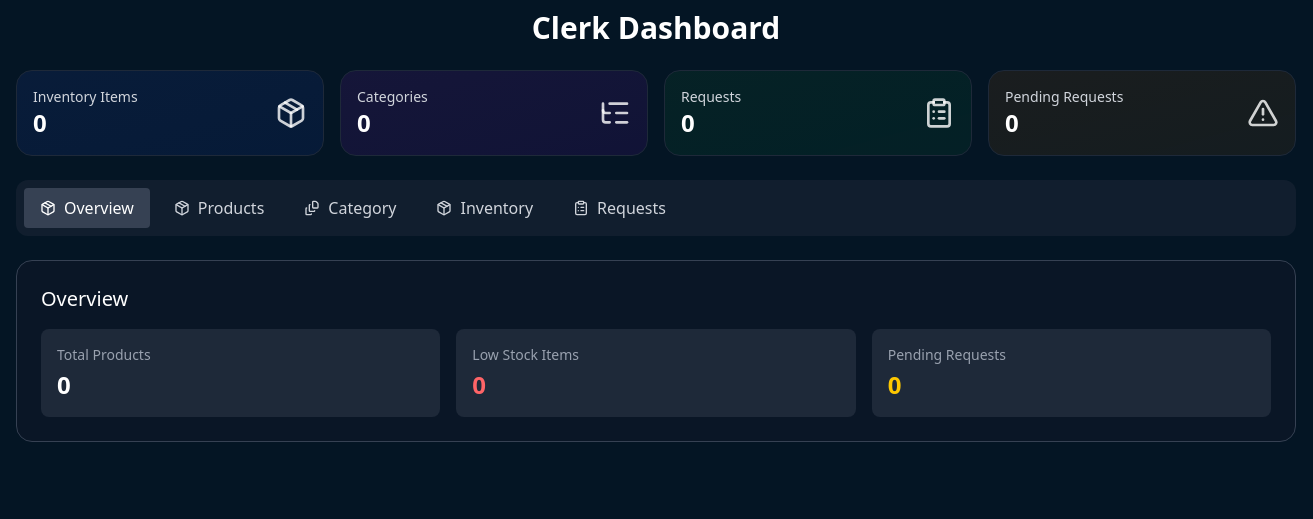
Test case: ClerkDashboard › switches to Category tab
The width and height of the screenshot is (1313, 519).
Click the button "Category" at (350, 208), box [288, 188, 412, 228]
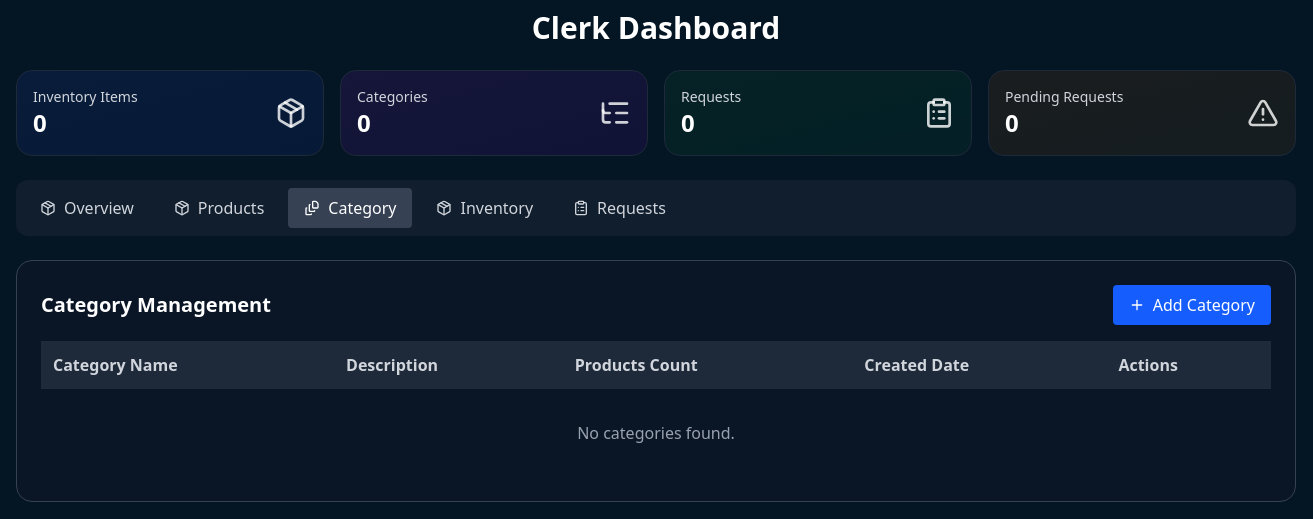
Now the column heading "Description" is shown, box [334, 341, 563, 389]
